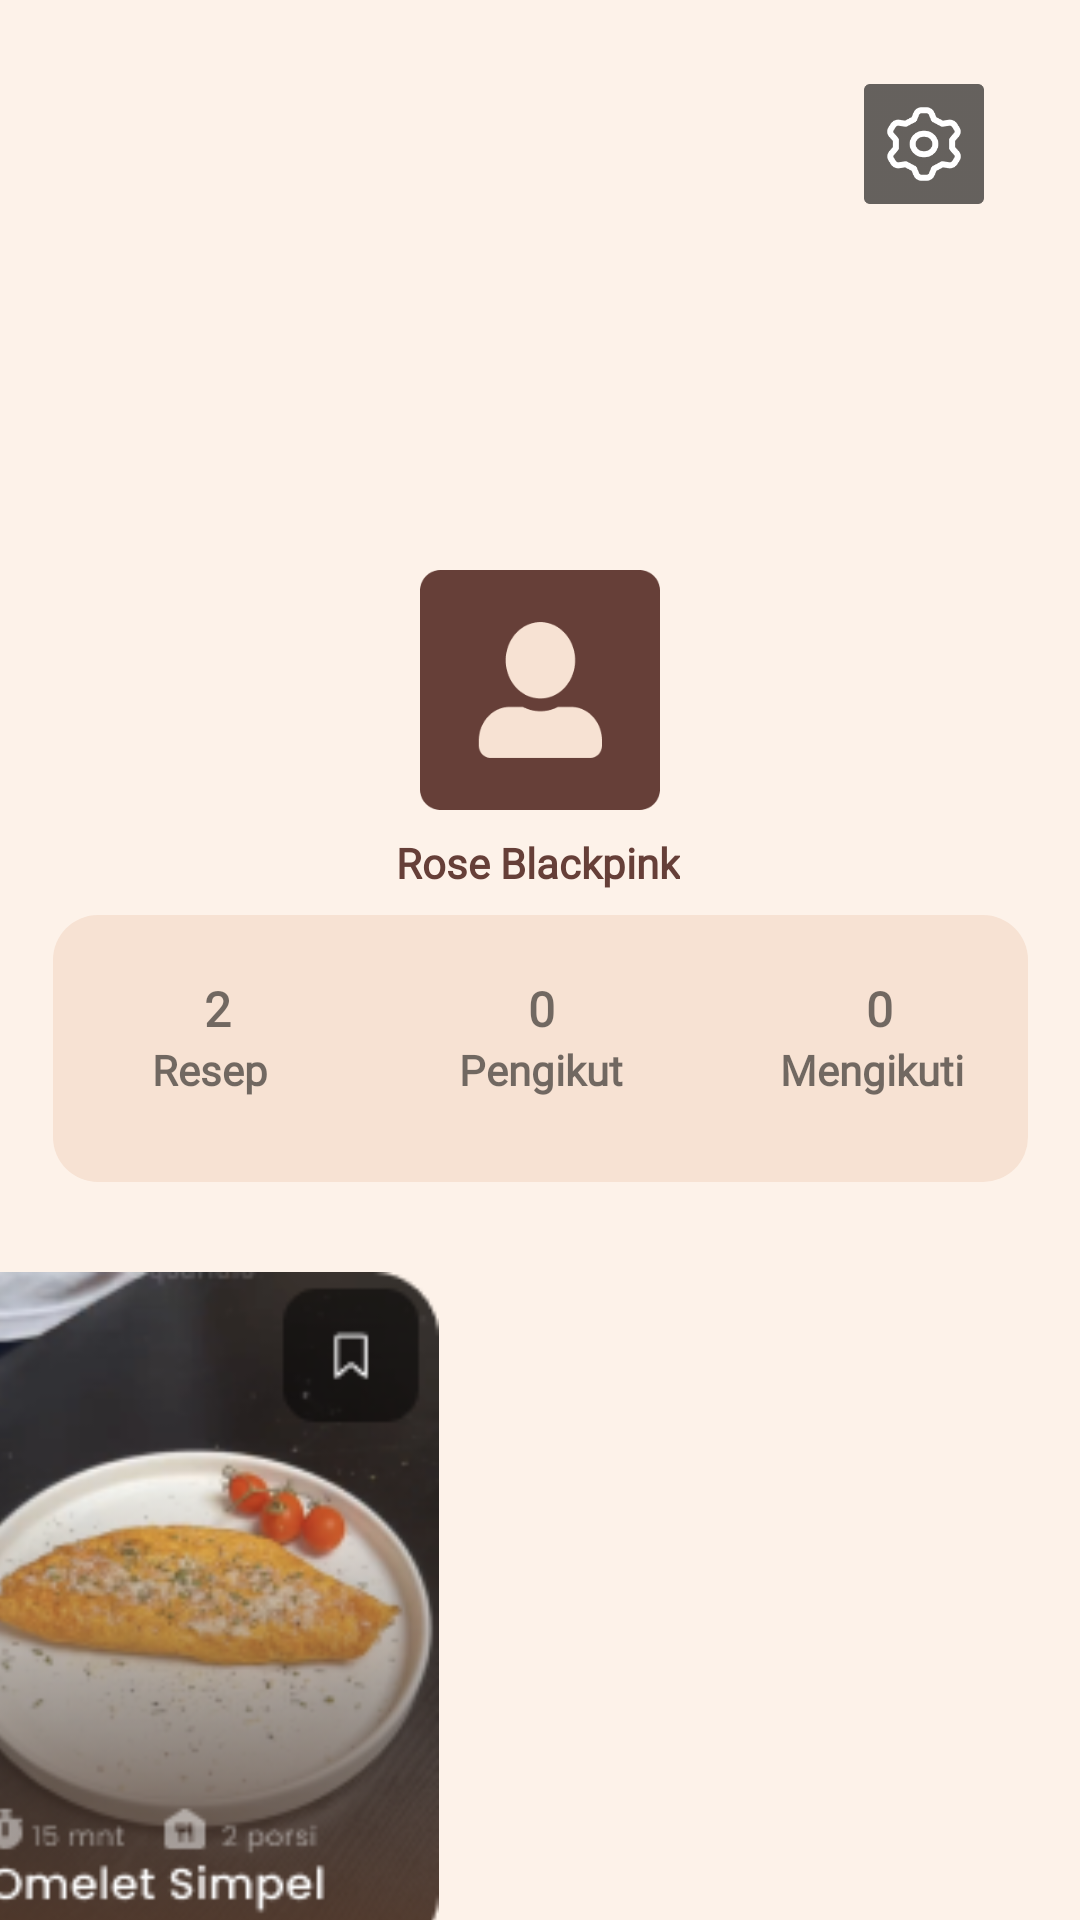

Icons on this 1080px×1920px Android screen, each with the point to tap as [x,y]:
setting: [924,144]
userppp: [540,690]
